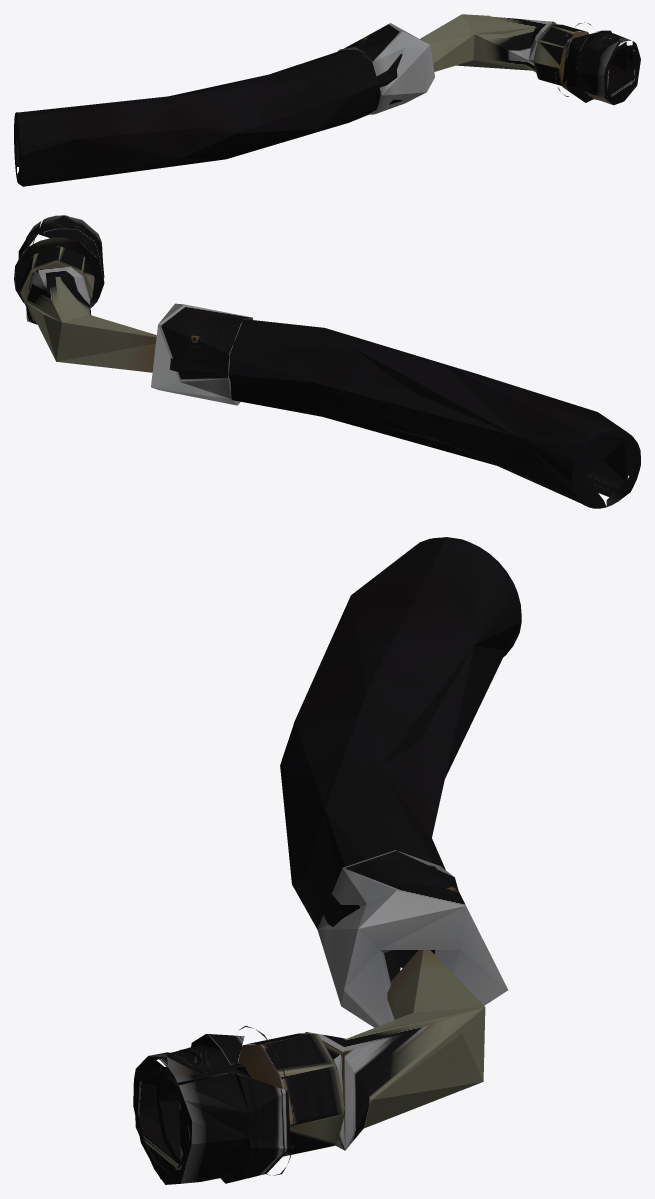
File: consumable_hose_hydraulic_a01.glb
3 views of the same model, one above another, from view 1: azimuth 30°, elevation 25°; view 2: azimuth 150°, elevation 25°; view 3: azimuth 270°, elevation 25° (orthographic). The views are drawn at different scales.
Parts seen in each view (by area): view 1: geometry_0; view 2: geometry_0; view 3: geometry_0.
Part boxes in pixels (x1,y1,x2,y2): geometry_0: (14,14,640,186); geometry_0: (14,215,640,508); geometry_0: (133,537,521,1184).
Bounding box in the file's own units: 0.42 × 0.0507 × 0.1238.
Materials: 1 (1 with a texture image).
